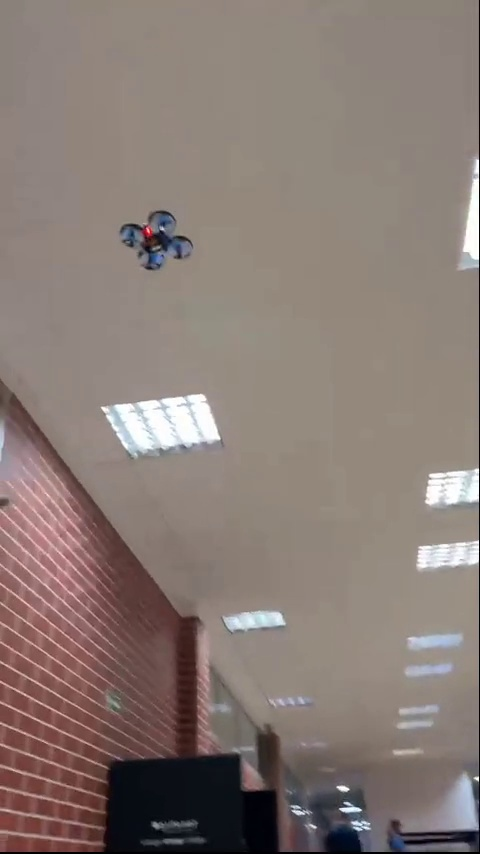drone: (116, 213, 197, 268)
